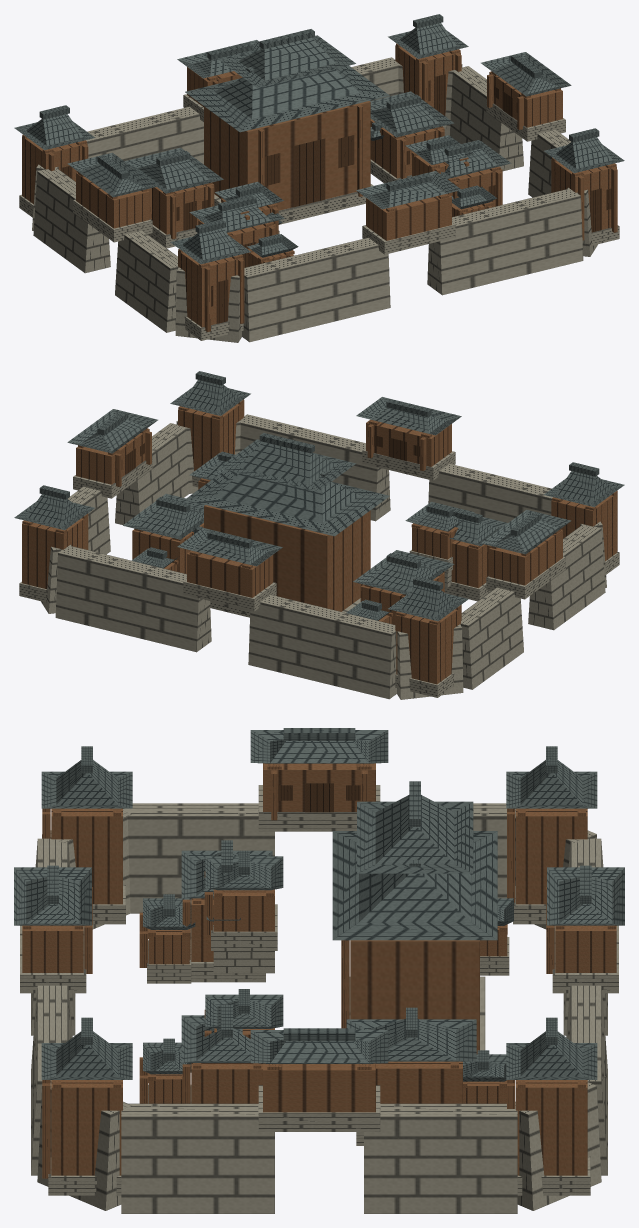
The model's file is city0-lod1.glb.
The picture shows the model from 3 angles, top to bottom: view 1: azimuth 30°, elevation 25°; view 2: azimuth 150°, elevation 25°; view 3: azimuth 270°, elevation 25°; orthographic projection. The views are drawn at different scales.
Bounding box in the file's own units: 2.31 × 0.821 × 1.79.
1 material, 1 textured.
